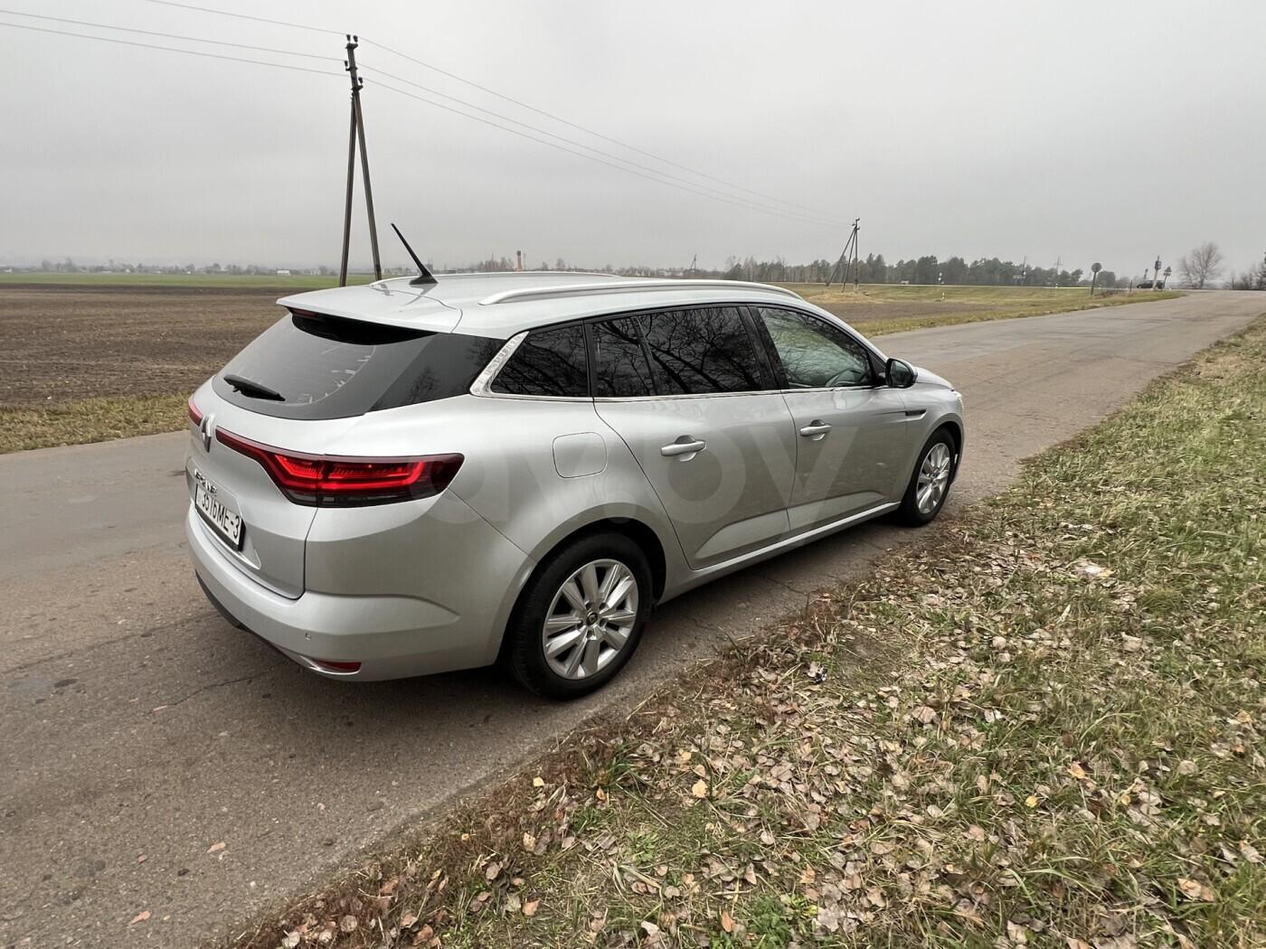Megane_2020: (176, 272, 970, 711)
